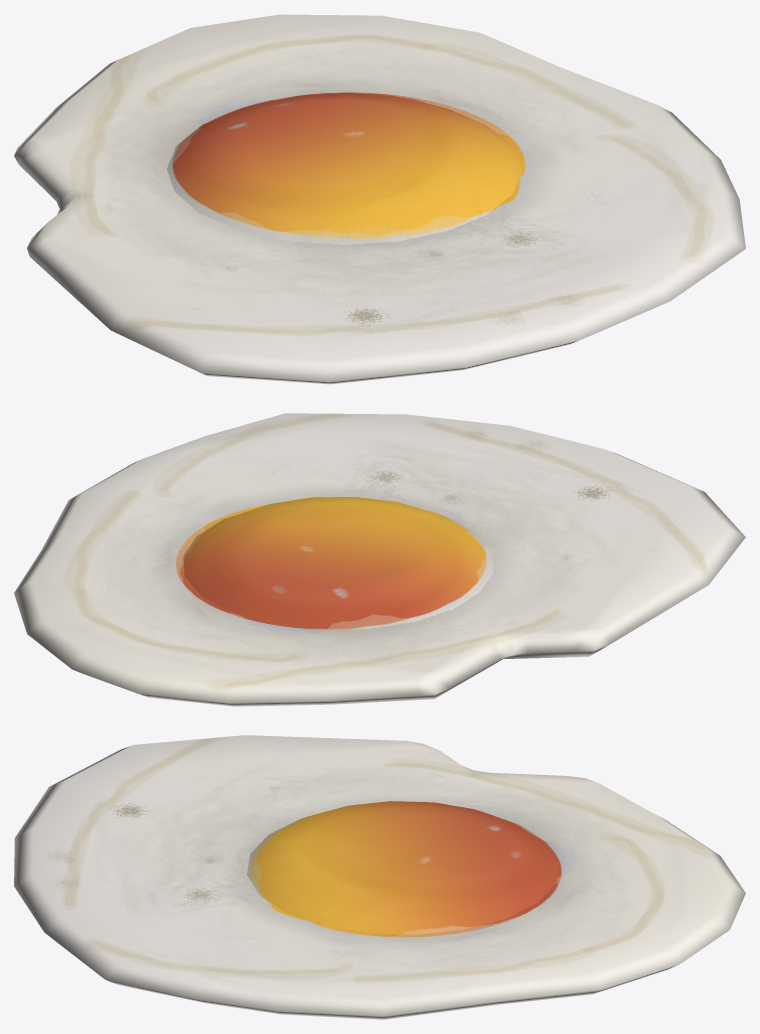
File: egg.glb
3 views of the same model, one above another, from view 1: azimuth 30°, elevation 25°; view 2: azimuth 150°, elevation 25°; view 3: azimuth 270°, elevation 25° (orthographic). The views are drawn at different scales.
Parts seen in each view (by area): view 1: OVO_FRITO_LP; view 2: OVO_FRITO_LP; view 3: OVO_FRITO_LP.
Boxes of the visible parts, x1,y1,x2,y2 form: OVO_FRITO_LP: (14,14,745,384); OVO_FRITO_LP: (14,413,745,706); OVO_FRITO_LP: (14,735,745,1019).
Size of the model in its own units: 3.63 by 0.3125 by 4.05.
Materials: 1 (1 with a texture image).
